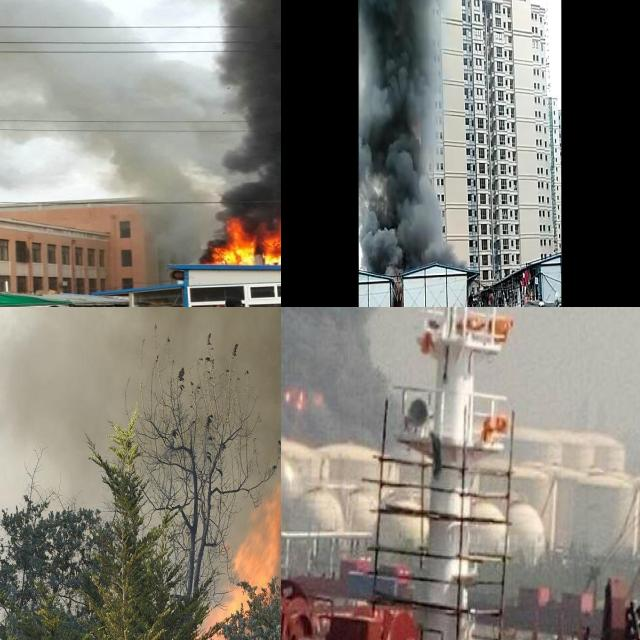fire: (189, 480, 281, 640), (207, 215, 281, 265), (284, 382, 324, 414)
smoke: (0, 307, 281, 618), (0, 0, 281, 234), (281, 307, 503, 446), (360, 0, 463, 274)
